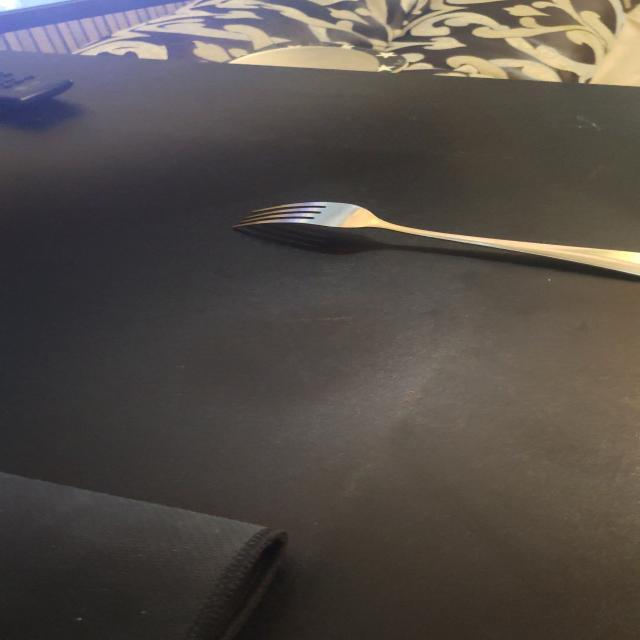plastic utensil: (233, 202, 640, 275)
